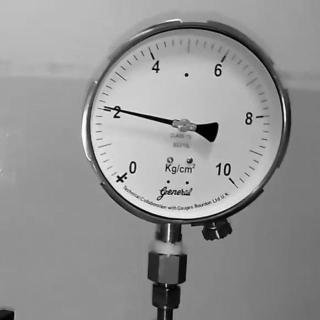gauge: (43, 4, 297, 232), (212, 162, 244, 194), (110, 158, 142, 190), (149, 283, 171, 309), (176, 116, 192, 132), (101, 102, 111, 111)
